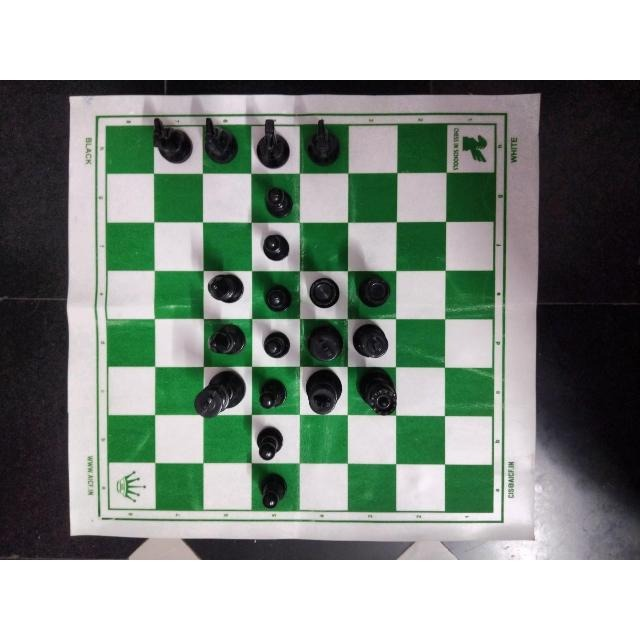black-bishop: (204, 322, 248, 358), (202, 271, 245, 305)
black-king: (194, 369, 246, 419), (302, 369, 346, 418), (301, 321, 344, 364), (350, 320, 391, 364)
black-knight: (149, 109, 195, 166), (304, 110, 346, 170), (251, 110, 291, 170), (201, 110, 242, 168)
black-pawn: (253, 471, 291, 510), (252, 425, 288, 465), (258, 279, 294, 318), (255, 375, 291, 413), (262, 184, 298, 220), (258, 329, 294, 365), (258, 228, 293, 265)
black-queen: (353, 365, 398, 419)
black-rook: (353, 269, 395, 311), (303, 271, 343, 313)
